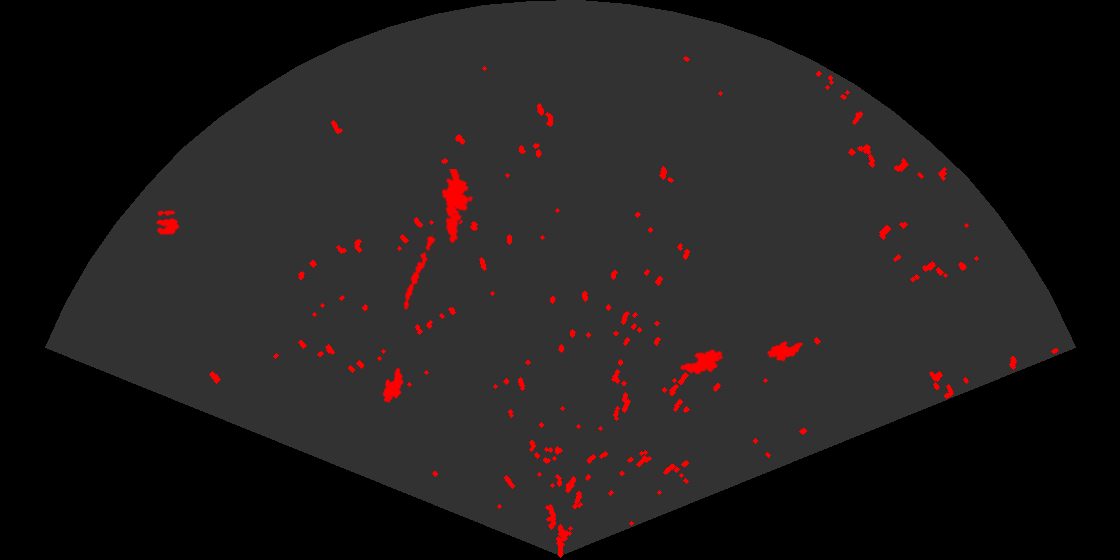AUV: (678, 348, 725, 376), (765, 339, 805, 363), (381, 366, 405, 405)
ball: (154, 209, 181, 236)
chain: (402, 228, 438, 312)
frogman: (440, 169, 475, 245)
